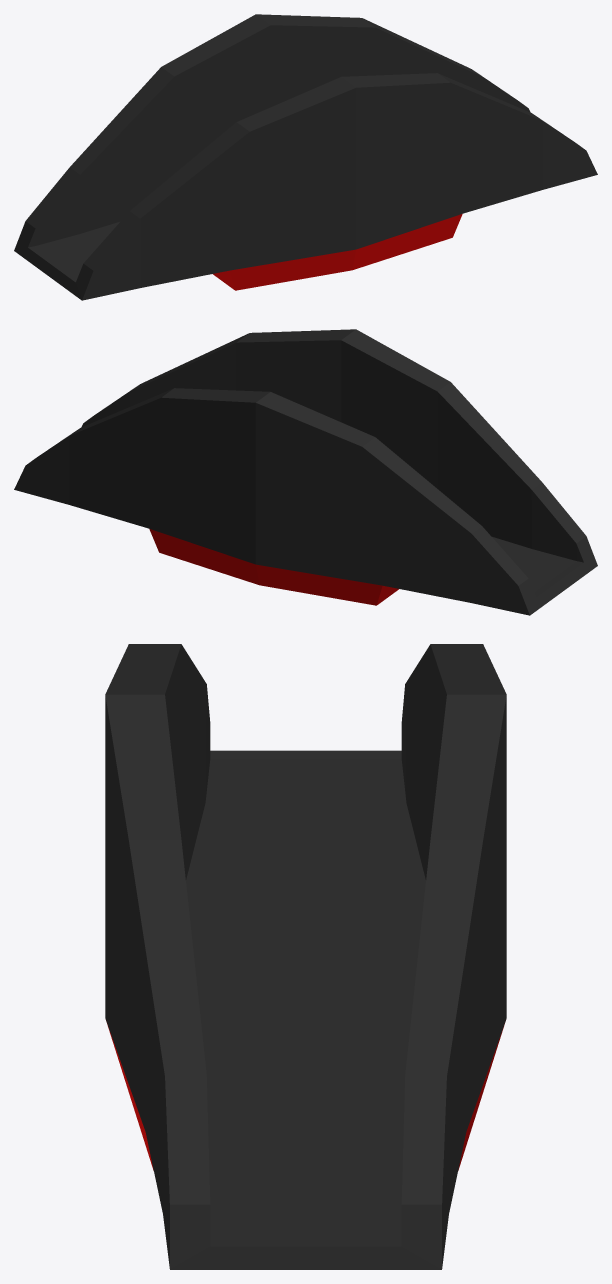
File: GorroPirata.fbx
3 views of the same model, one above another, from view 1: azimuth 30°, elevation 25°; view 2: azimuth 150°, elevation 25°; view 3: azimuth 270°, elevation 25° (orthographic). The views are drawn at different scales.
Visible parts, largest first — view 1: GorroPirata; view 2: GorroPirata; view 3: GorroPirata.
Part boxes in pixels (x1,y1,x2,y2): GorroPirata: (14, 14, 597, 300); GorroPirata: (14, 329, 597, 615); GorroPirata: (105, 644, 506, 1269).
Size of the model in its own units: 56.48 by 19.39 by 19.03.
